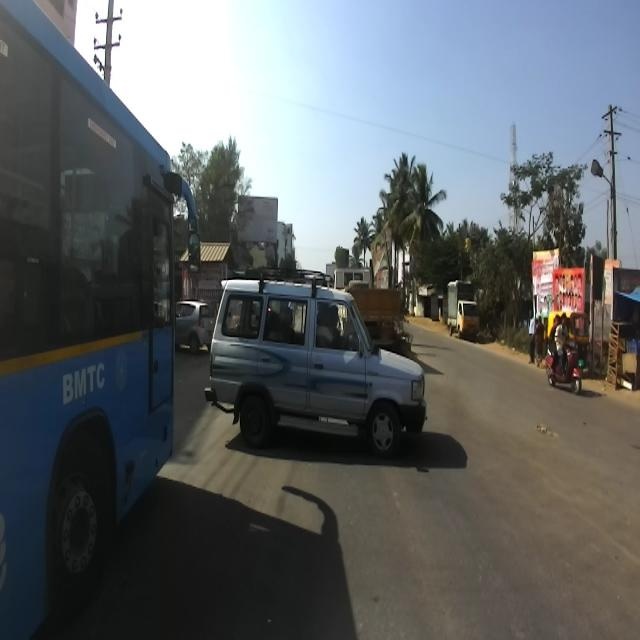autorickshaw: (546, 306, 590, 381)
bus: (0, 0, 202, 639)
car: (203, 268, 427, 460)
scooter: (546, 331, 582, 394)
truck: (330, 265, 401, 350), (446, 279, 480, 339)
